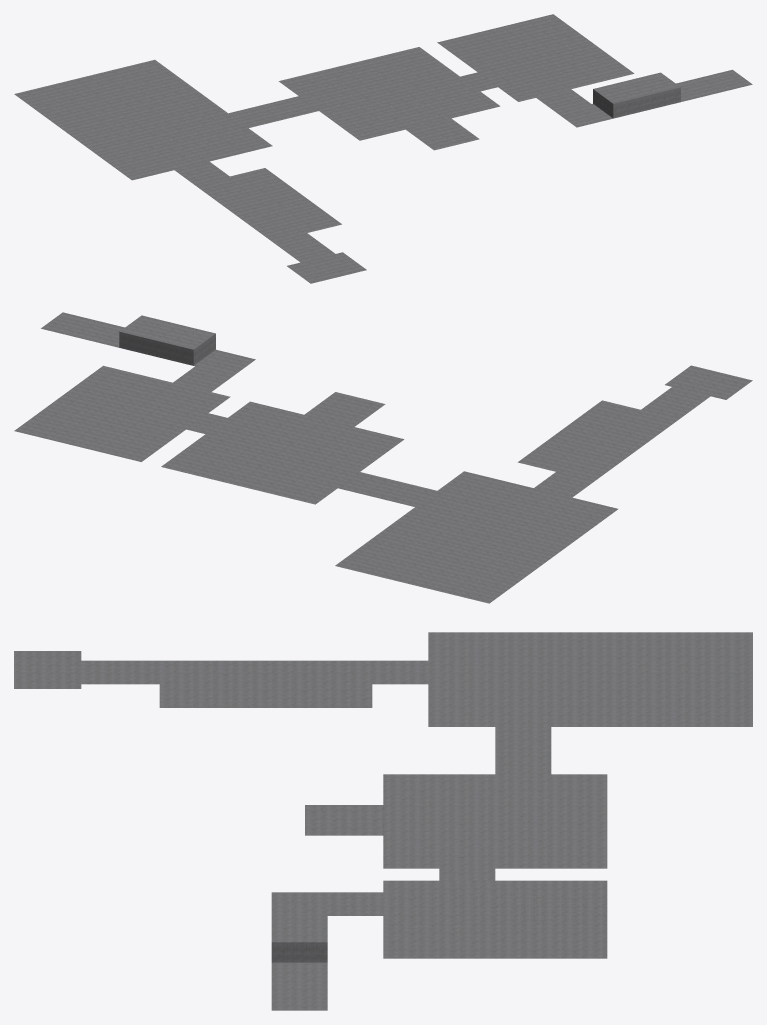
Rendered from Level0Roof.fbx.
3 views of the same model, one above another, from view 1: azimuth 30°, elevation 25°; view 2: azimuth 150°, elevation 25°; view 3: azimuth 270°, elevation 25° (orthographic). The views are drawn at different scales.
Parts seen in each view (by area): view 1: Level0Roof; view 2: Level0Roof; view 3: Level0Roof.
Part boxes in pixels (x1=…): Level0Roof: x1=14, y1=14, x2=752, y2=283; Level0Roof: x1=14, y1=312, x2=752, y2=603; Level0Roof: x1=14, y1=632, x2=752, y2=1010.
Size of the model in its own units: 8000 by 200 by 6600.
